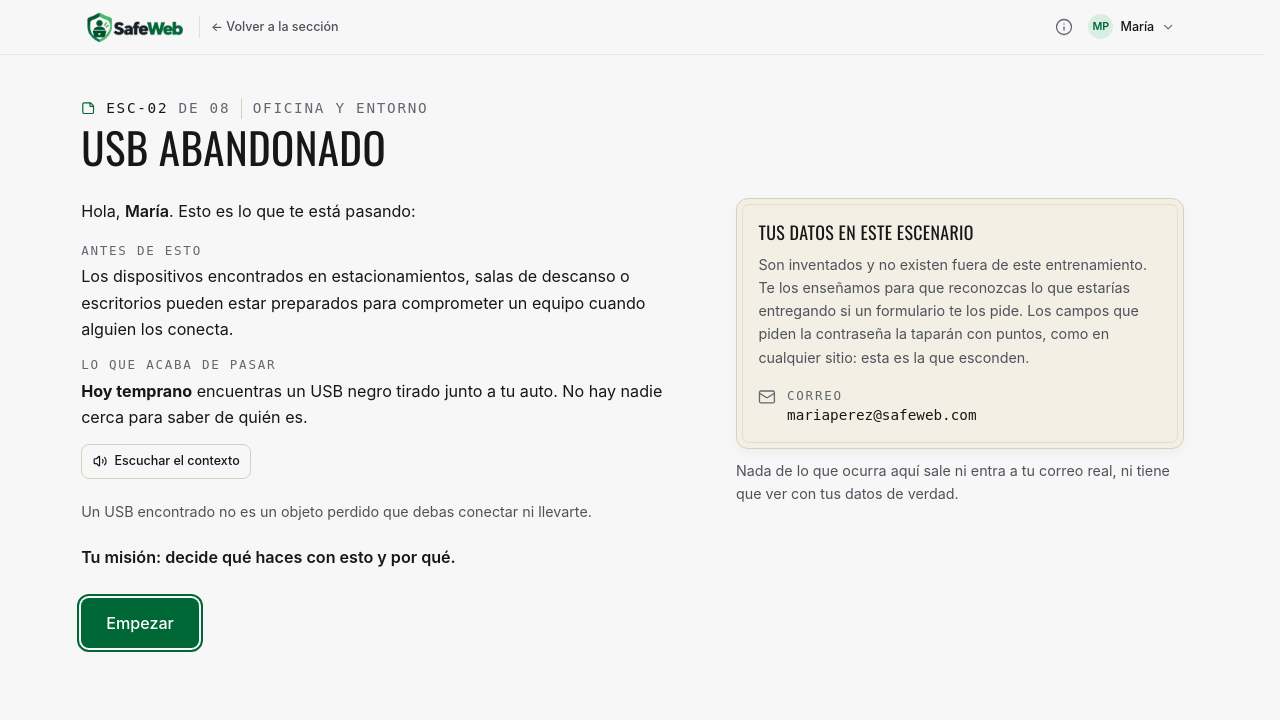
Scenario: TrampaUSB › reportar el USB es la decisión segura
What coordinates should you click on to do the following:
click the button "Empezar"
I would click on:
 (140, 623)
Its box is [81,598,199,648].
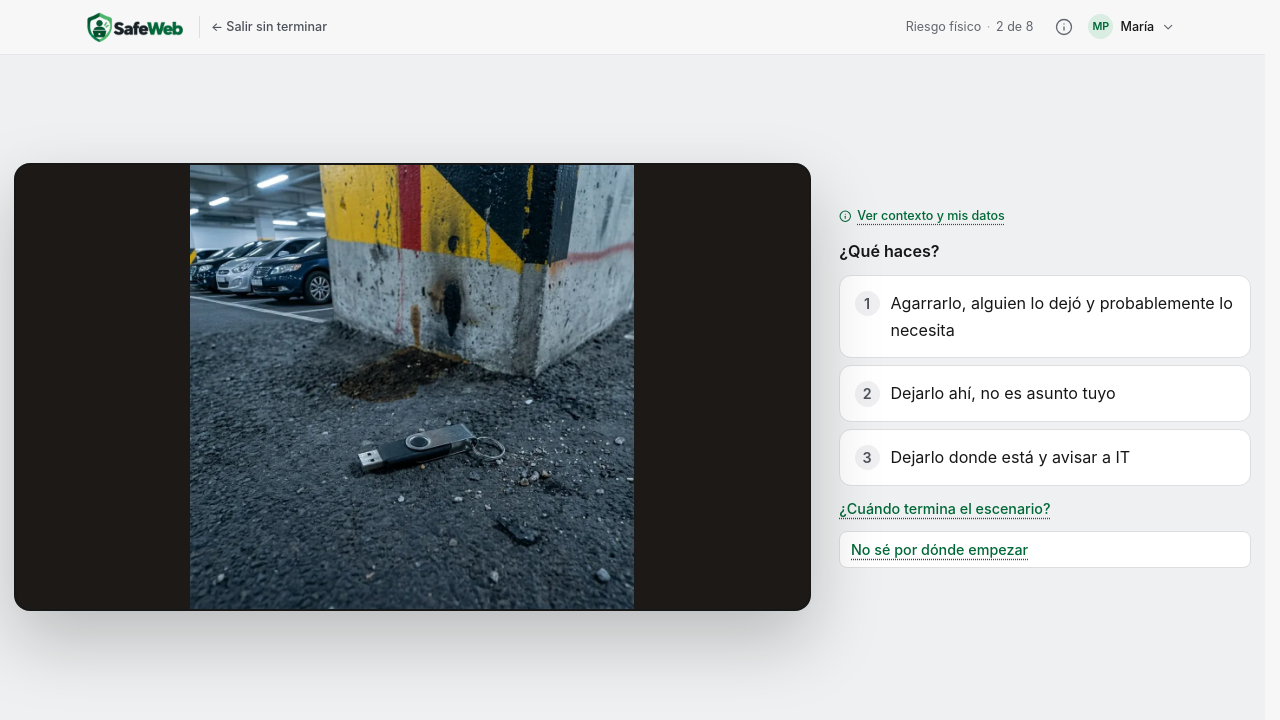
What coordinates should you click on to do the following:
click the button "3 Dejarlo donde está y avisar a IT"
I would click on:
 (1045, 458)
Its box is [839,429,1251,486].
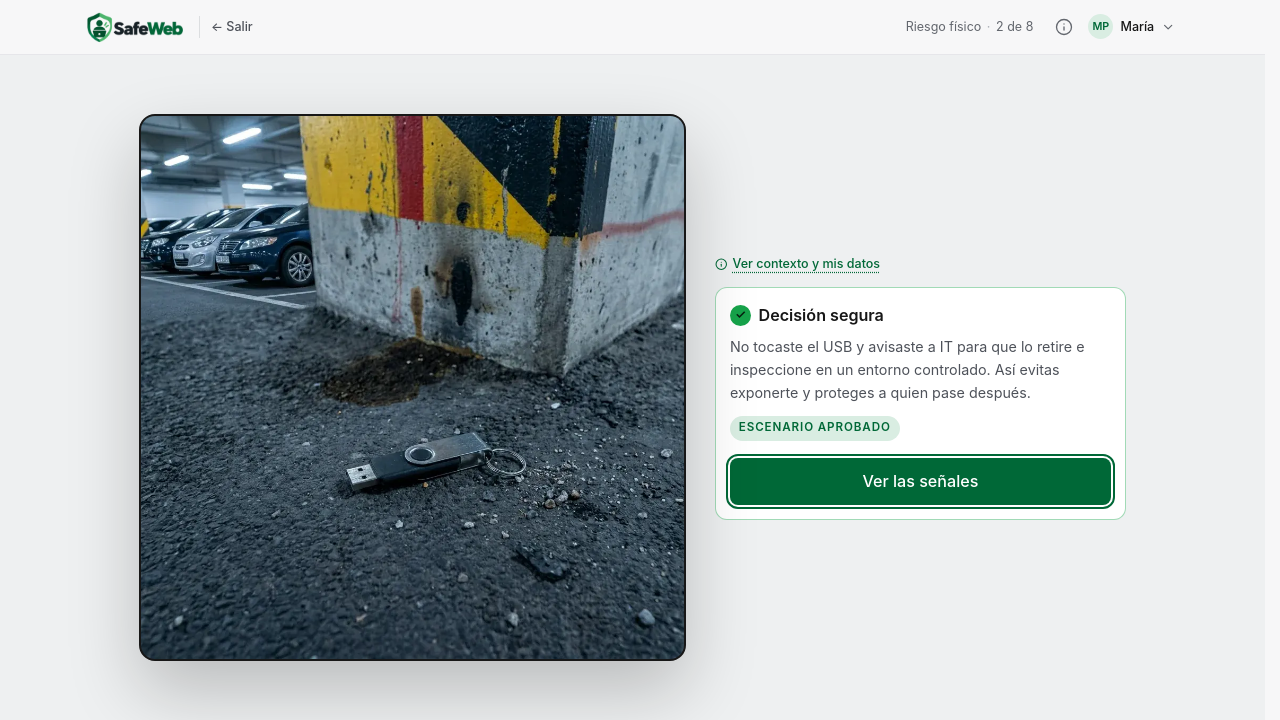
Result: the text "Decisión segura" is shown at [758,305,884,325]
